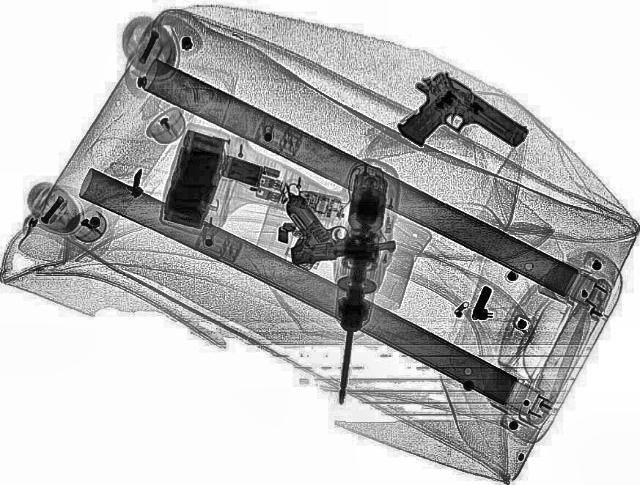Gun: (372, 66, 534, 178), (272, 183, 398, 263)
